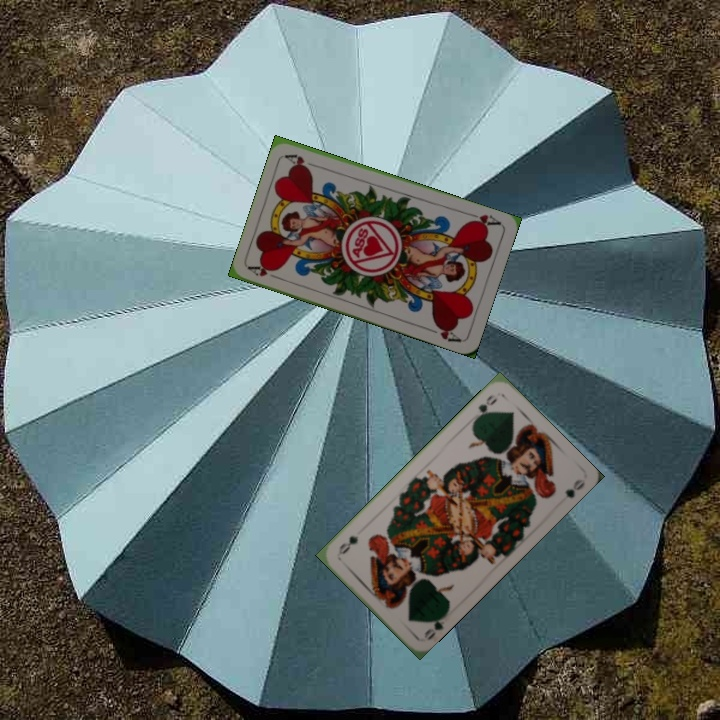GO: (420, 608, 450, 643), (470, 390, 500, 424)
HA: (246, 261, 285, 283), (463, 209, 503, 230)
